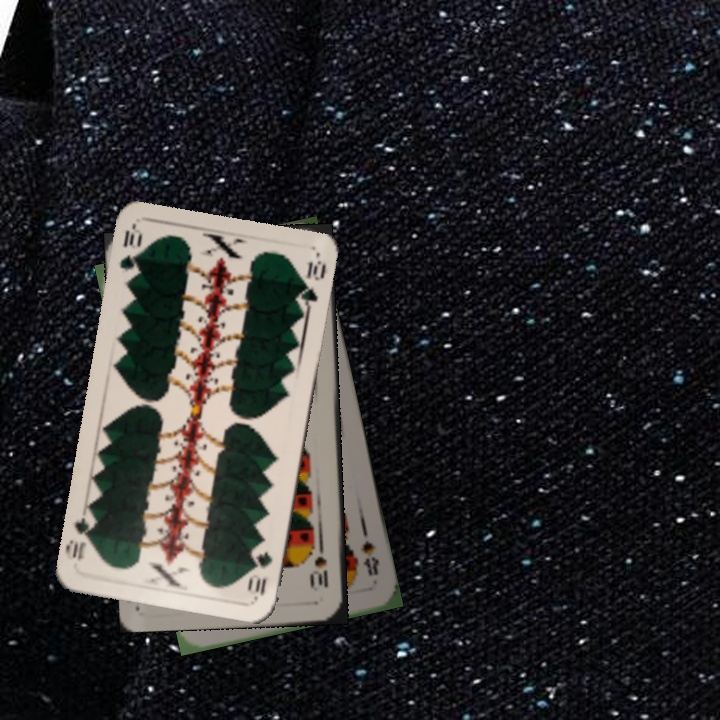G10: (115, 223, 145, 283), (246, 547, 275, 599)
S10: (310, 539, 331, 593)
S8: (357, 536, 382, 579)
